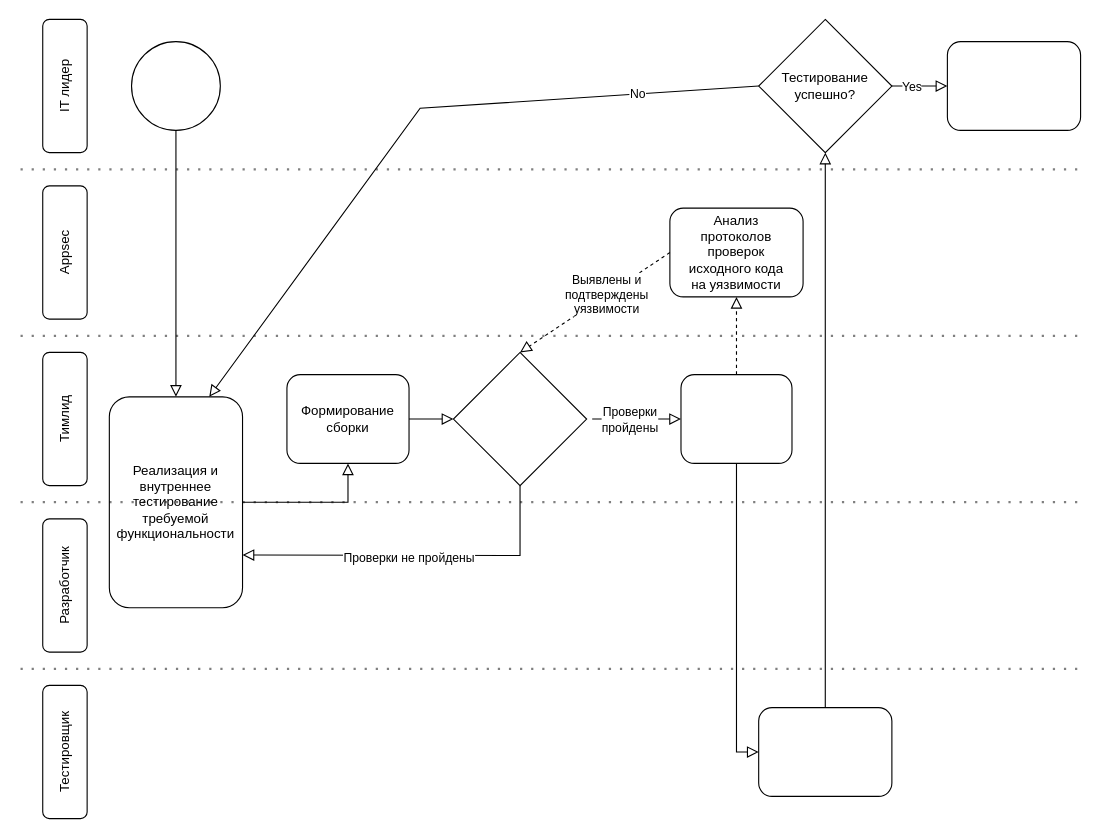
Some shapes in this 1107 by 838 pixel diagram are drawn without their labels. Each missing label, with the box of its shape:
Анализ качества и безопасности кода: (452, 351, 587, 486)
Задание на разработку: (130, 41, 220, 130)
Перенос релиза в прод: (946, 41, 1081, 130)
Тестирование (функциональное, интеграционное, нагрузочное): (758, 707, 892, 796)
Формирование релиза: (680, 374, 792, 463)
